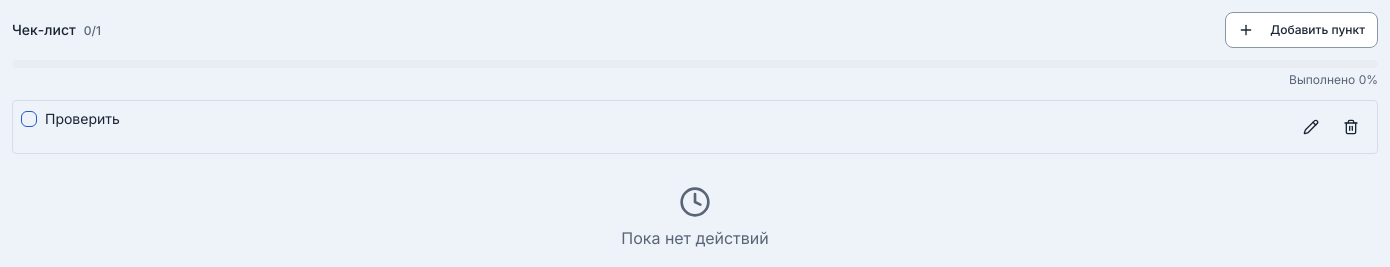
Scenario: checklist-toggle history refresh › refreshes only after a successful server response (success=true)
The width and height of the screenshot is (1390, 267).
Expected: the text "Пока нет действий" is shown, [621, 226, 769, 250]
Click the checkbox labelled "Проверить" at (82, 118), box [45, 110, 120, 127]
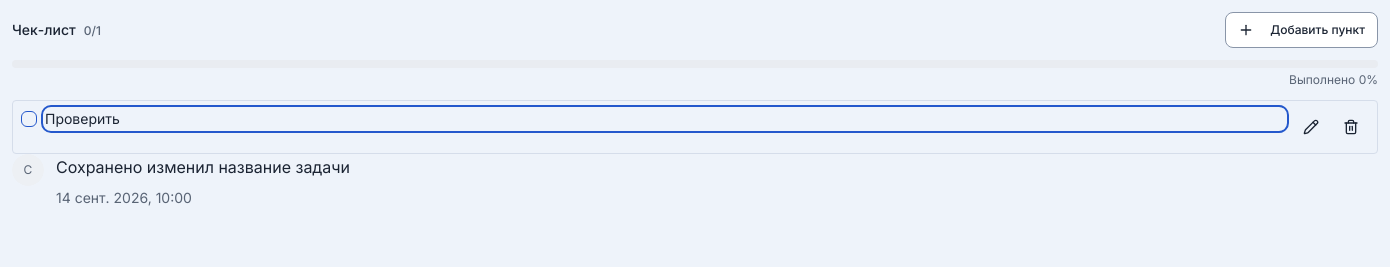
Expected: the text "Сохранено изменил название задачи" is shown, [56, 157, 350, 177]
